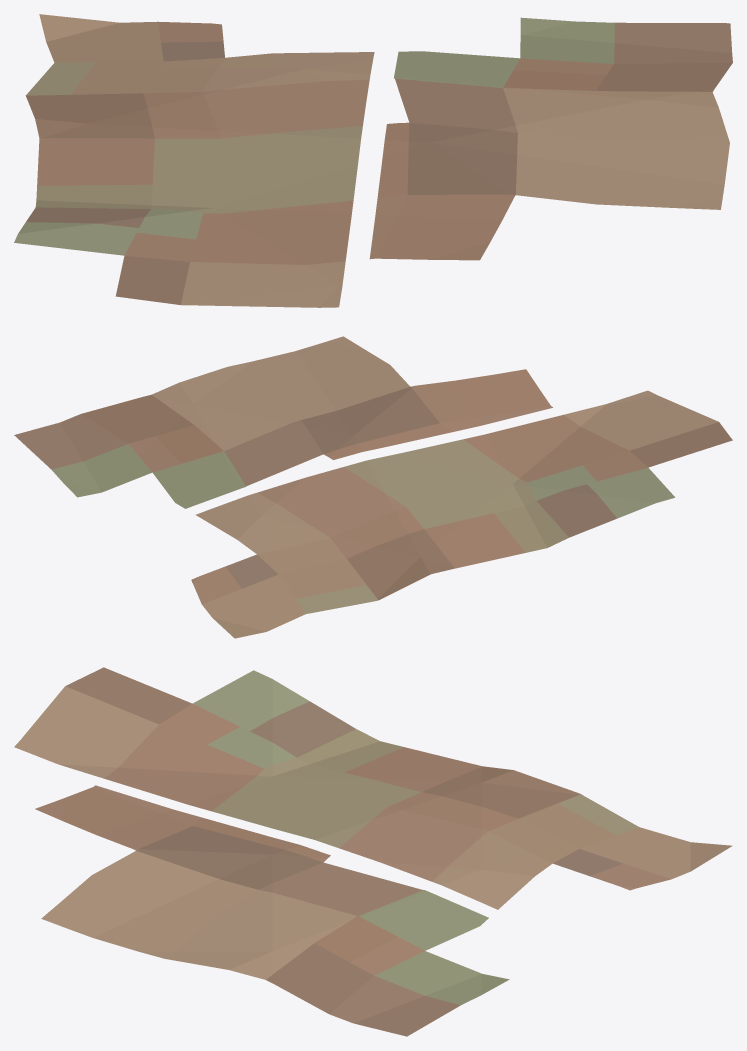
File: farm_-27_-33_soil.glb
3 views of the same model, one above another, from view 1: azimuth 30°, elevation 25°; view 2: azimuth 150°, elevation 25°; view 3: azimuth 270°, elevation 25° (orthographic). The views are drawn at different scales.
Parts seen in each view (by area): view 1: geometry_0; view 2: geometry_0; view 3: geometry_0.
Boxes of the visible parts, bbox=[...] form: geometry_0: bbox=[14, 14, 732, 307]; geometry_0: bbox=[14, 336, 732, 638]; geometry_0: bbox=[14, 667, 732, 1036].
Bounding box in the file's own units: 298 × 25.31 × 275.
